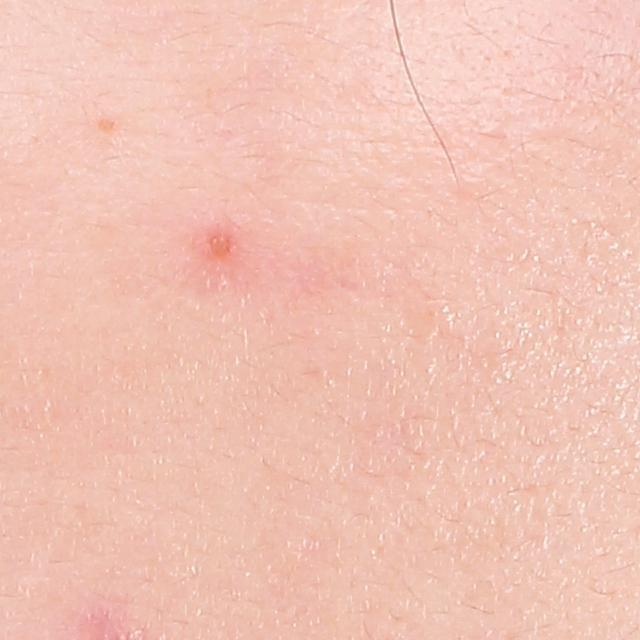papule: (203, 229, 245, 264)
